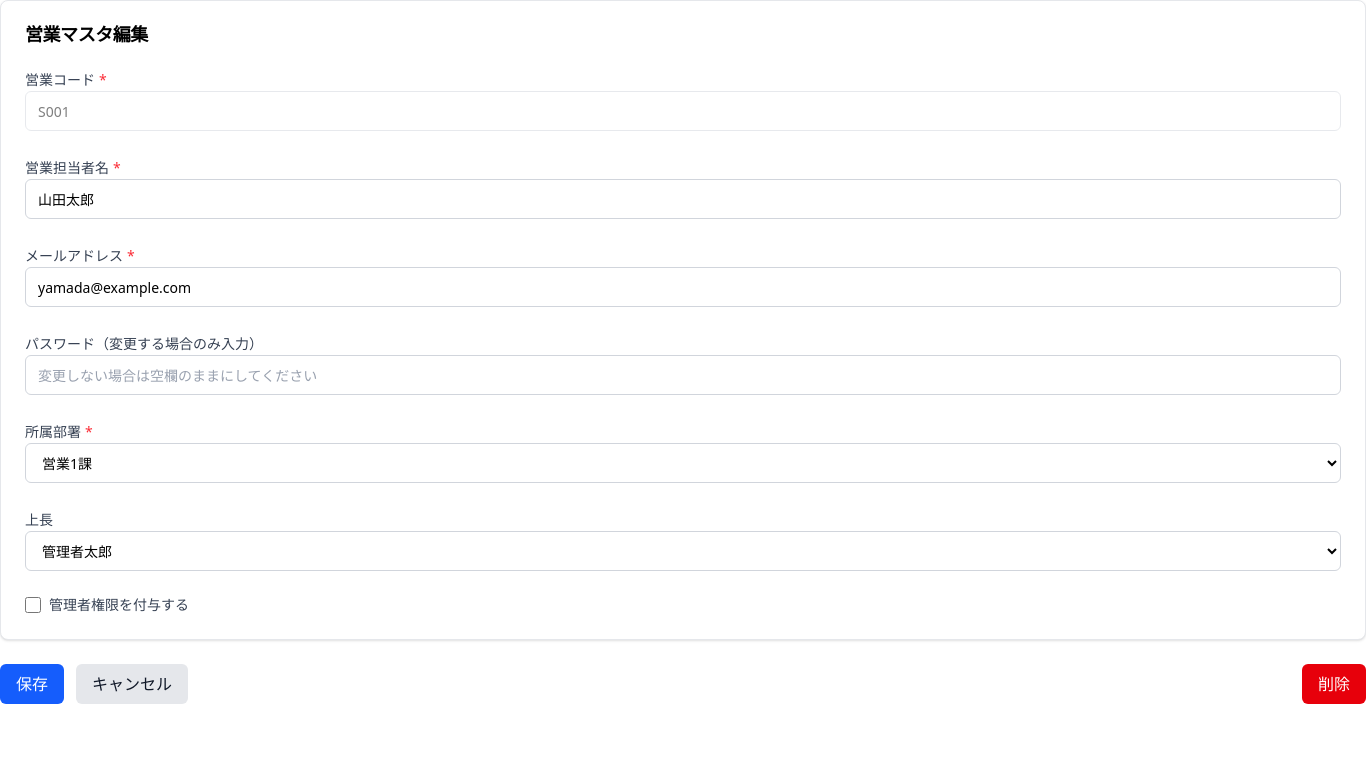
Scenario: SalesForm › 編集モード › 削除確認ダイアログでキャンセルすると、削除が実行されない
削除ボタンをクリック
Click the button "削除" at coordinates (1334, 684), box [1302,664,1365,704]
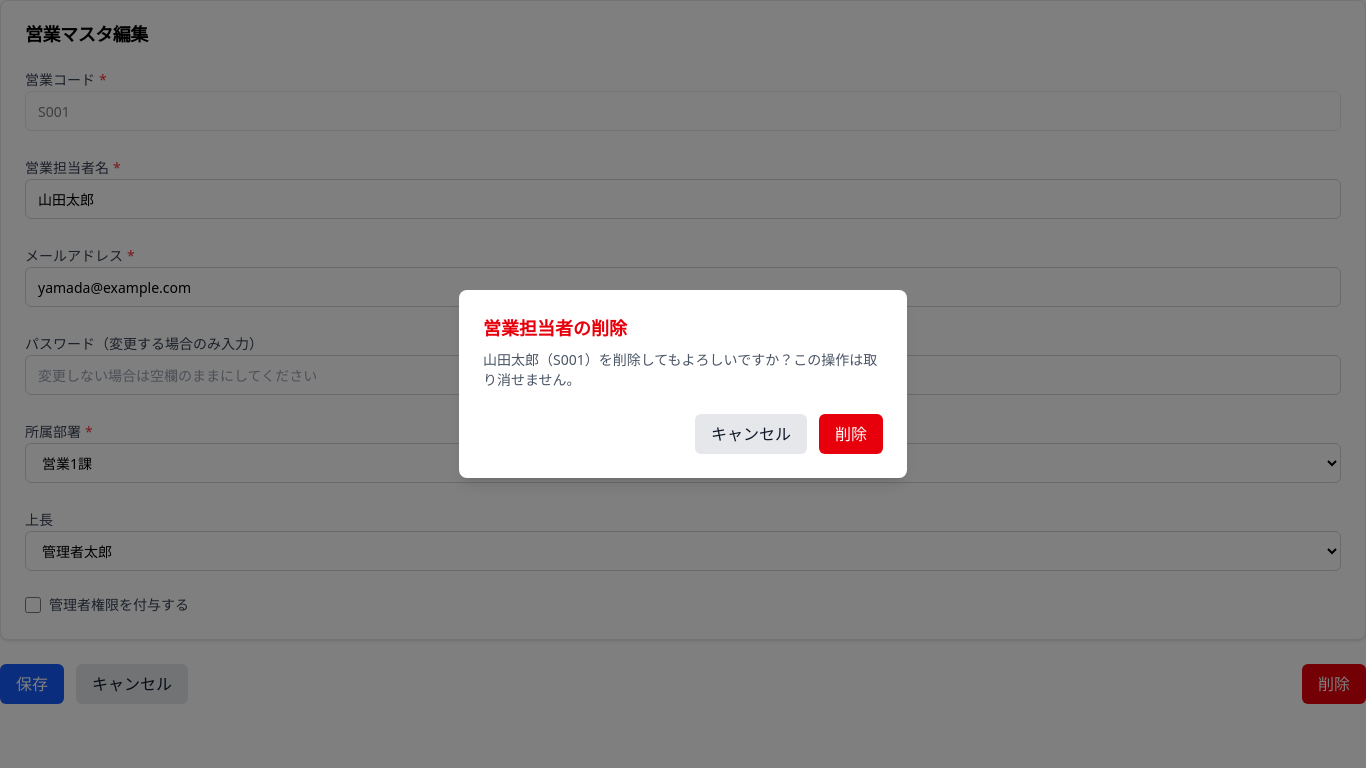
Now the heading "営業担当者の削除" is shown, box [483,316,627,340]
Now the button "キャンセル" is shown
Click the button "キャンセル" at coordinates (751, 434), box [695,414,807,454]
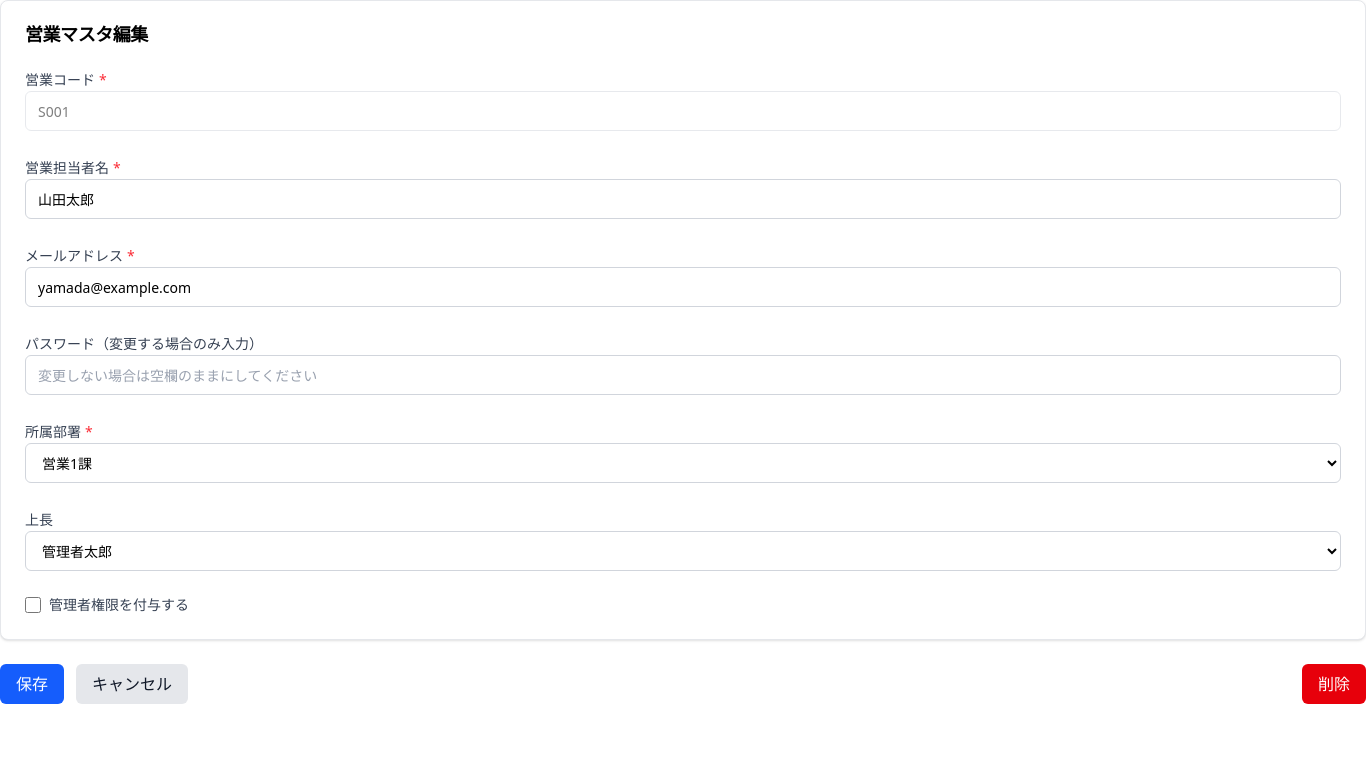
Now the heading "営業担当者の削除" is gone
